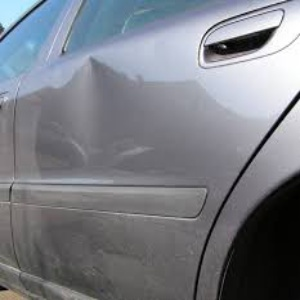door: (23, 56, 248, 162)
